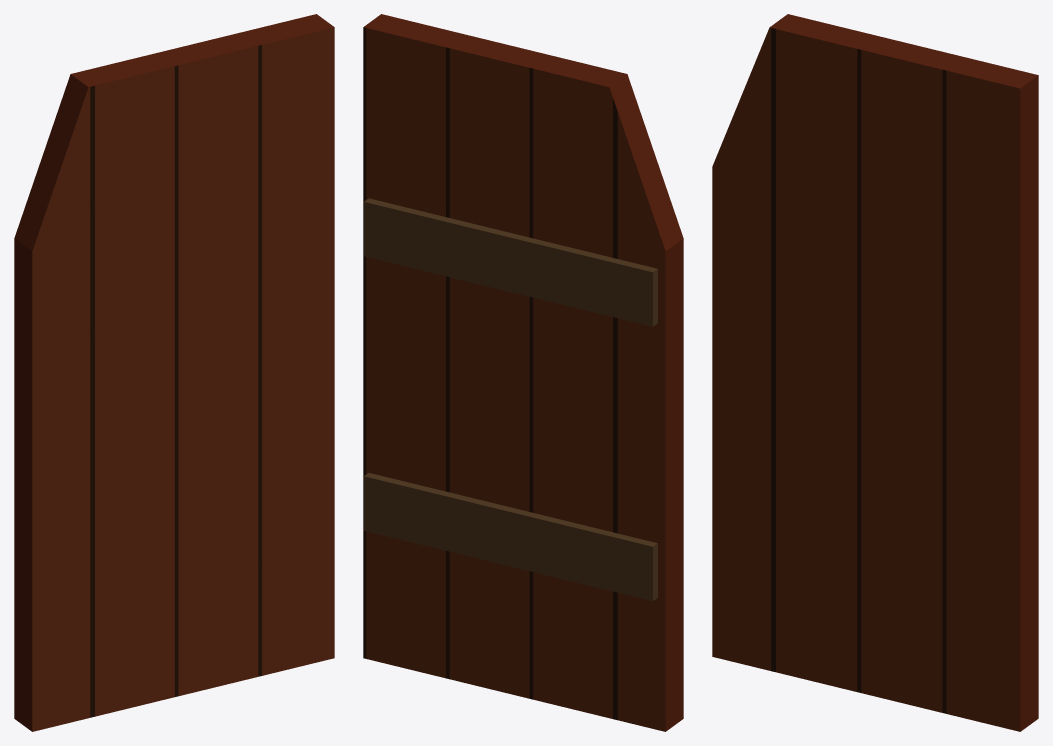
File: gate_door_left.glb
3 views of the same model, side by side, from view 1: azimuth 30°, elevation 25°; view 2: azimuth 150°, elevation 25°; view 3: azimuth 330°, elevation 25° (orthographic).
Visible parts, largest first — view 1: Ortam_1; view 2: Ortam_1; view 3: Ortam_1.
Boxes of the visible parts, left/top/right/bottom form: Ortam_1: left=14, top=14, right=334, bottom=731; Ortam_1: left=363, top=14, right=683, bottom=731; Ortam_1: left=712, top=14, right=1038, bottom=731.
Bounding box in the file's own units: 0.6536 × 1.3 × 0.0855.
3 materials, 3 textured.
